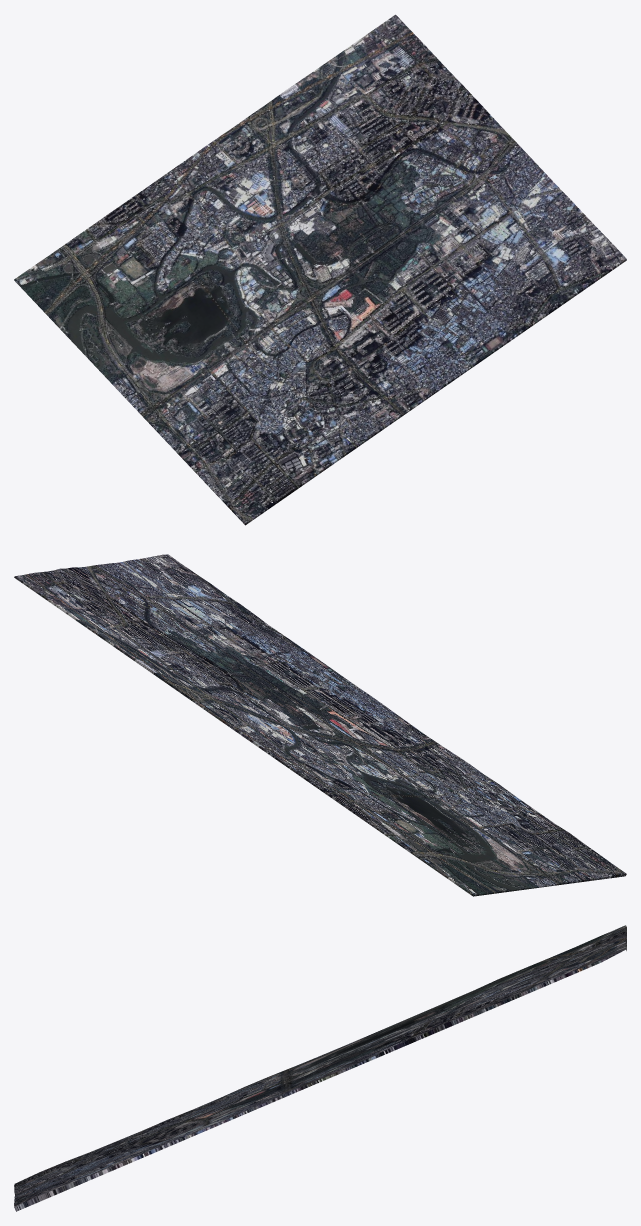
The picture shows the model from 3 angles, top to bottom: view 1: azimuth 30°, elevation 25°; view 2: azimuth 150°, elevation 25°; view 3: azimuth 270°, elevation 25°; orthographic projection. The views are drawn at different scales.
Visible parts, largest first — view 1: 3_2_2; view 2: 3_2_2; view 3: 3_2_2.
Boxes of the visible parts, bbox=[...] form: 3_2_2: bbox=[14, 14, 626, 525]; 3_2_2: bbox=[14, 554, 626, 896]; 3_2_2: bbox=[14, 925, 626, 1211].
Size of the model in its own units: 4707 by 3106 by 3370.
Materials: 1 (1 with a texture image).
